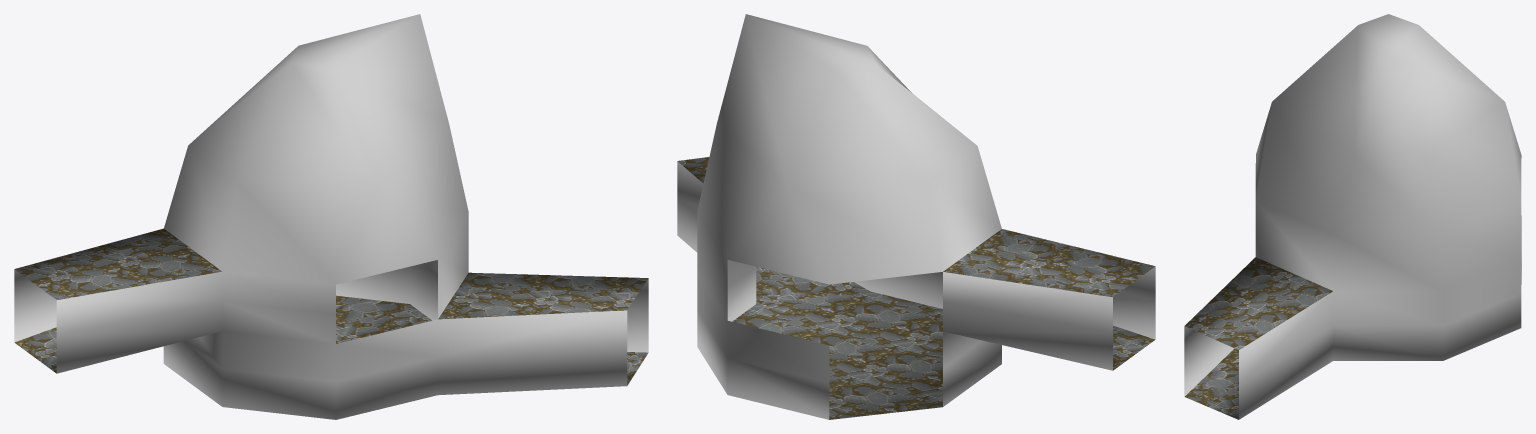
Rendered from Ossuary.fbx.
The picture shows the model from 3 angles, left to right: view 1: azimuth 30°, elevation 25°; view 2: azimuth 150°, elevation 25°; view 3: azimuth 270°, elevation 25°; orthographic projection. The views are drawn at different scales.
Visible parts, largest first — view 1: SE Ossuary; view 2: SE Ossuary; view 3: SE Ossuary.
Boxes of the visible parts, <box> form: SE Ossuary: <box>14,14,648,419</box>; SE Ossuary: <box>677,14,1155,419</box>; SE Ossuary: <box>1184,14,1521,419</box>.
Size of the model in its own units: 8385 by 4734 by 4888.
